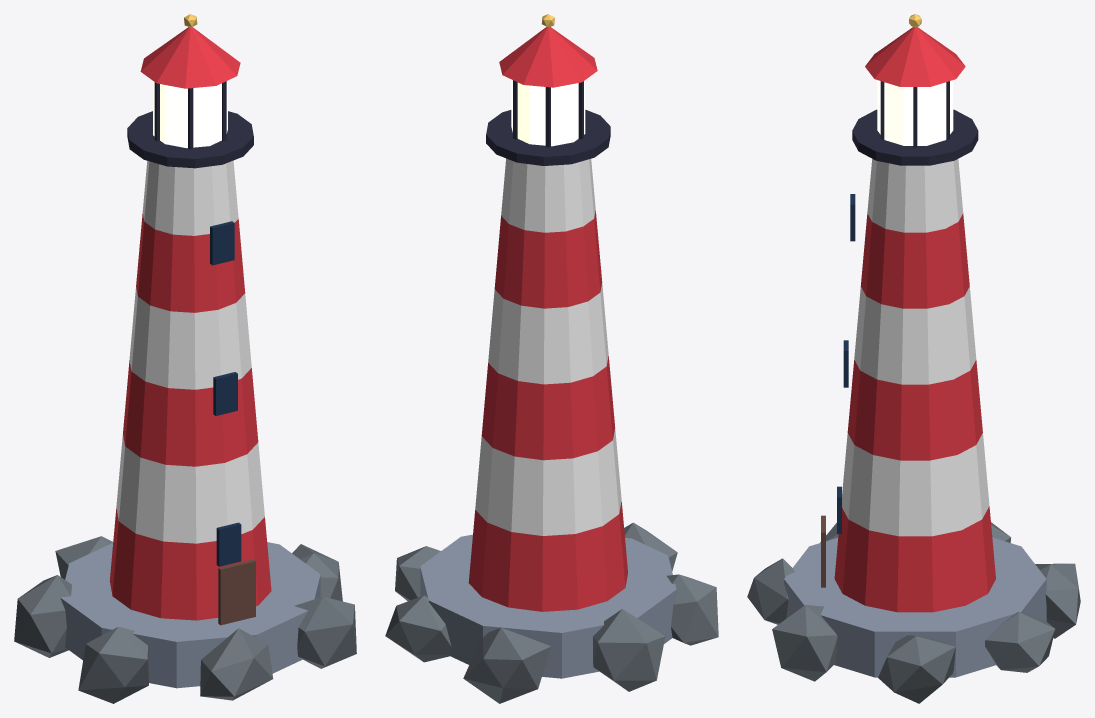
Rendered from lighthouse.glb.
The picture shows the model from 3 angles, left to right: view 1: azimuth 30°, elevation 25°; view 2: azimuth 150°, elevation 25°; view 3: azimuth 270°, elevation 25°; orthographic projection.
Visible parts, largest first — view 1: lighthouse; view 2: lighthouse; view 3: lighthouse.
Boxes of the visible parts, box(x1,y1,x2,y2) form: lighthouse: box(14, 14, 356, 703); lighthouse: box(385, 14, 718, 703); lighthouse: box(747, 14, 1080, 703).
Size of the model in its own units: 6.64 by 13.88 by 6.61.
